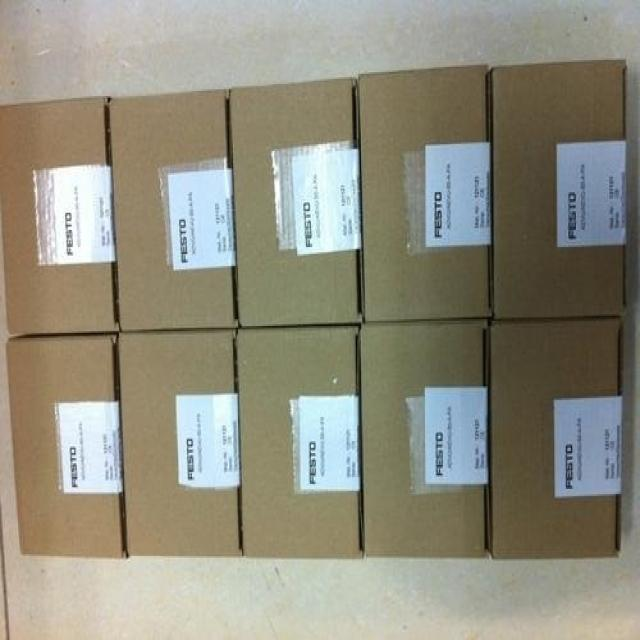Carton: (229, 75, 358, 556), (492, 57, 623, 312), (360, 63, 486, 321), (490, 323, 620, 554), (106, 88, 232, 326), (360, 319, 483, 559), (118, 328, 237, 554), (0, 94, 113, 331), (4, 336, 122, 558)
